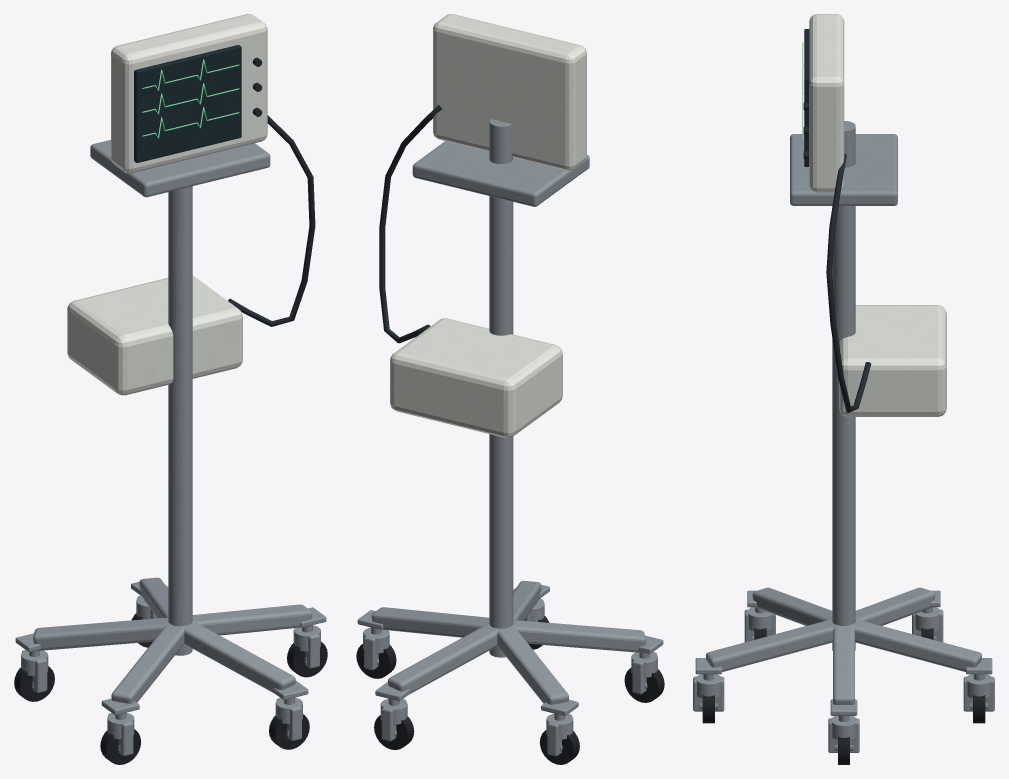
File: vital-monitor.glb
The picture shows the model from 3 angles, left to right: view 1: azimuth 30°, elevation 25°; view 2: azimuth 150°, elevation 25°; view 3: azimuth 270°, elevation 25°; orthographic projection. The views are drawn at different scales.
Parts seen in each view (by area): view 1: object 1, object 22, object 26, Radial base spoke.002, Radial base spoke.004, Radial base spoke, Radial base spoke.003, Radial base spoke.001; view 2: object 1, object 22, Radial base spoke.003, Radial base spoke.001, Radial base spoke, Radial base spoke.002, Radial base spoke.004; view 3: object 1, object 22, Radial base spoke.001, Radial base spoke.004, Radial base spoke, Radial base spoke.003, Radial base spoke.002, object 26.
Part boxes in pixels (<box>): object 1: <box>14,14,327,764</box>; object 22: <box>31,115,315,751</box>; object 26: <box>134,45,241,162</box>; Radial base spoke.002: <box>33,617,169,650</box>; Radial base spoke.004: <box>182,621,295,692</box>; Radial base spoke: <box>192,604,312,635</box>; Radial base spoke.003: <box>111,623,184,703</box>; Radial base spoke.001: <box>139,577,168,618</box>; object 1: <box>356,14,664,764</box>; object 22: <box>377,105,647,751</box>; Radial base spoke.003: <box>511,620,645,652</box>; Radial base spoke.001: <box>387,624,499,694</box>; Radial base spoke: <box>371,607,489,637</box>; Radial base spoke.002: <box>497,626,568,704</box>; Radial base spoke.004: <box>513,580,541,620</box>; object 1: <box>702,14,985,764</box>; object 22: <box>699,121,988,750</box>; Radial base spoke.001: <box>850,619,981,671</box>; Radial base spoke.004: <box>706,619,837,671</box>; Radial base spoke: <box>833,624,854,704</box>; Radial base spoke.003: <box>752,587,832,625</box>; Radial base spoke.002: <box>855,587,935,625</box>; object 26: <box>802,29,809,166</box>.
Bounding box in the file's own units: 0.6046 × 1.48 × 0.6156.
6 materials, 6 textured.
